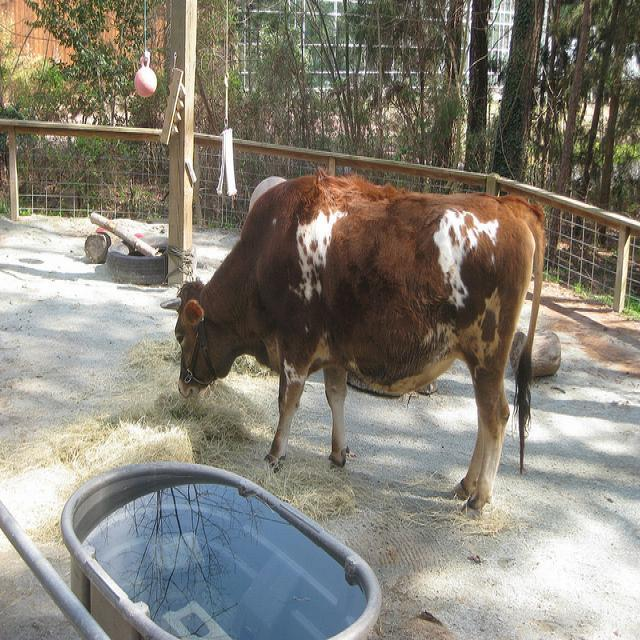cow: (173, 167, 545, 523)
